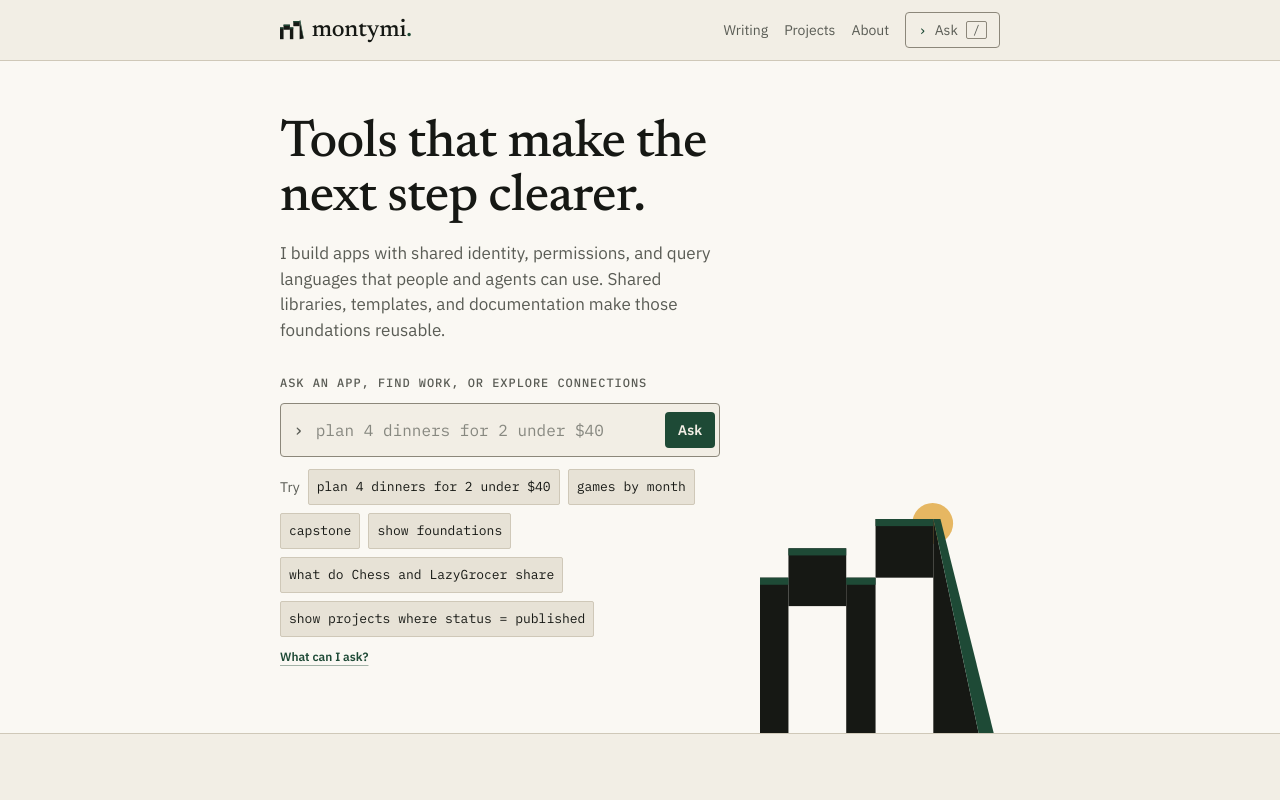
the search bar explains invalid values and offers empty results without unrelated matches
This screenshot has width=1280, height=800.
Type "show projects where status = banana" into the dropdown at point(484, 430), box [316, 408, 653, 452]
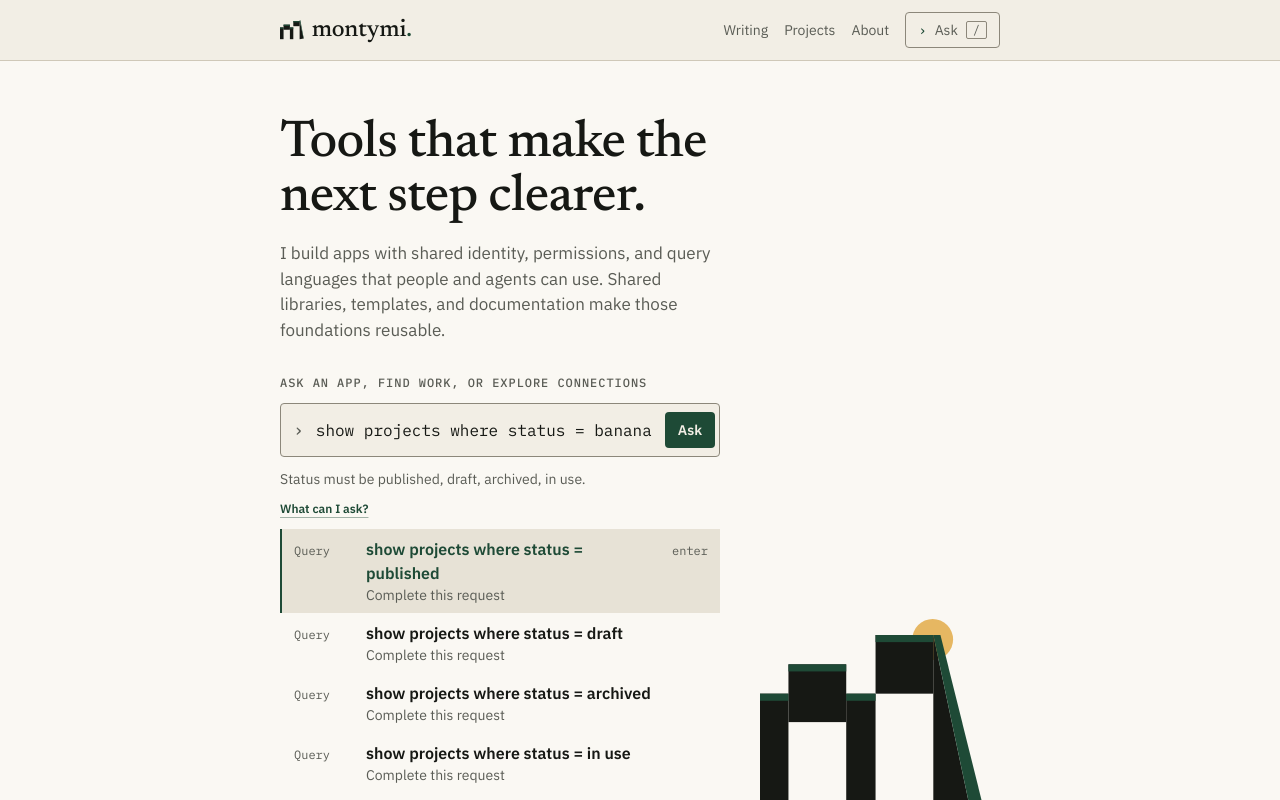
Result: the message shows "Status must be" at [280, 470, 586, 488]
Replace the text in the dropdown with "show templates where status = archived" at point(484, 430), box [316, 408, 653, 452]
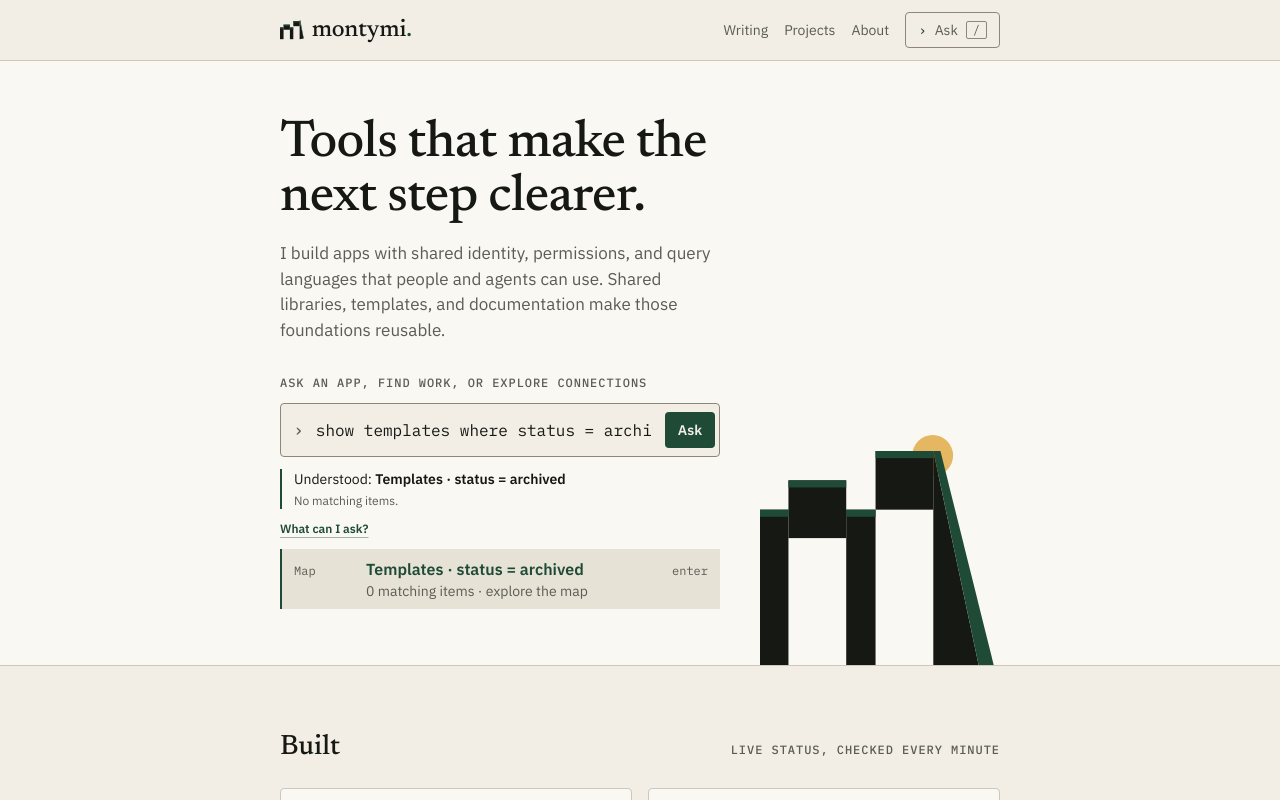
Result: the message shows "No matching items" at [294, 493, 398, 508]
Result: the number of options is 1 at [280, 549, 720, 609]
